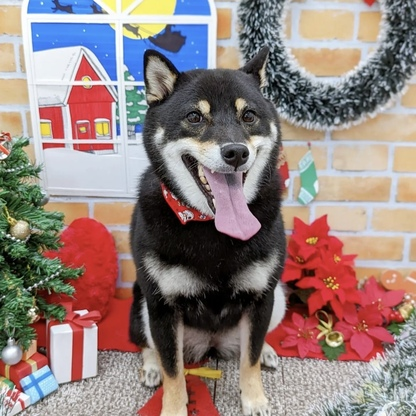shiba: (127, 35, 289, 416)
